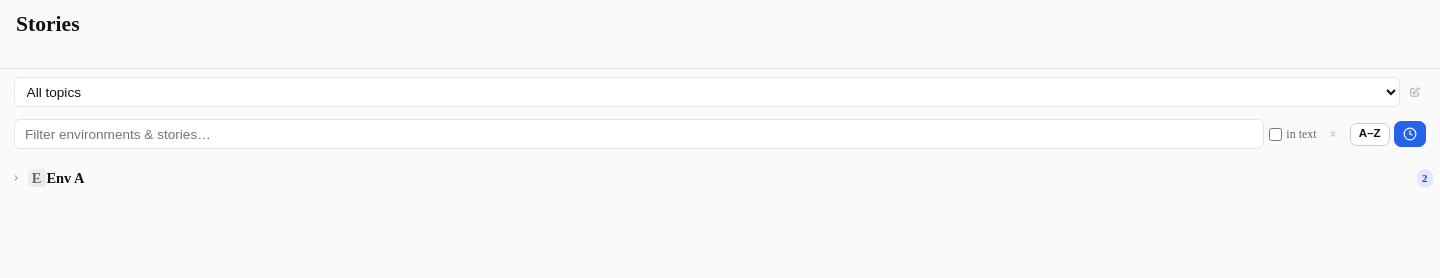
it: SideBarComponent › rendering › renders chat titles inside an expanded project
Click the button with class "expand-btn". click: (16,178)
box: [5,167,27,189]
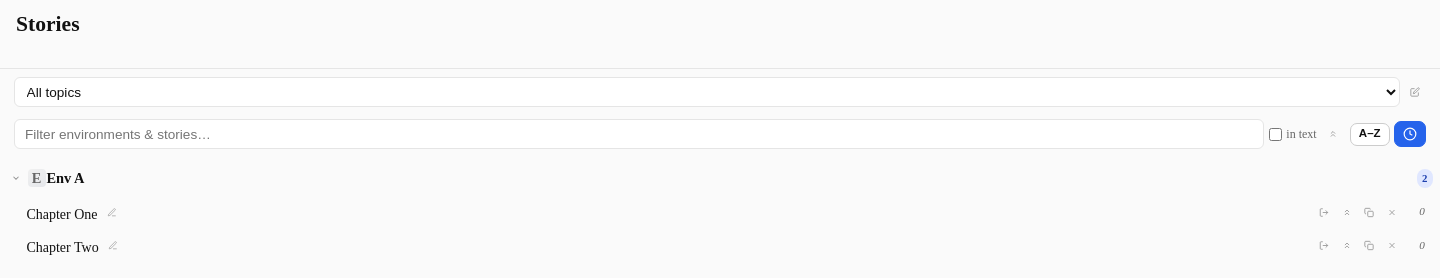
Check: the element with class "chat-item" showing "Chapter One 0" is shown, box [18,196,1434,228]
Check: the element with class "chat-item" showing "Chapter Two 0" is shown, box [18,229,1434,261]
